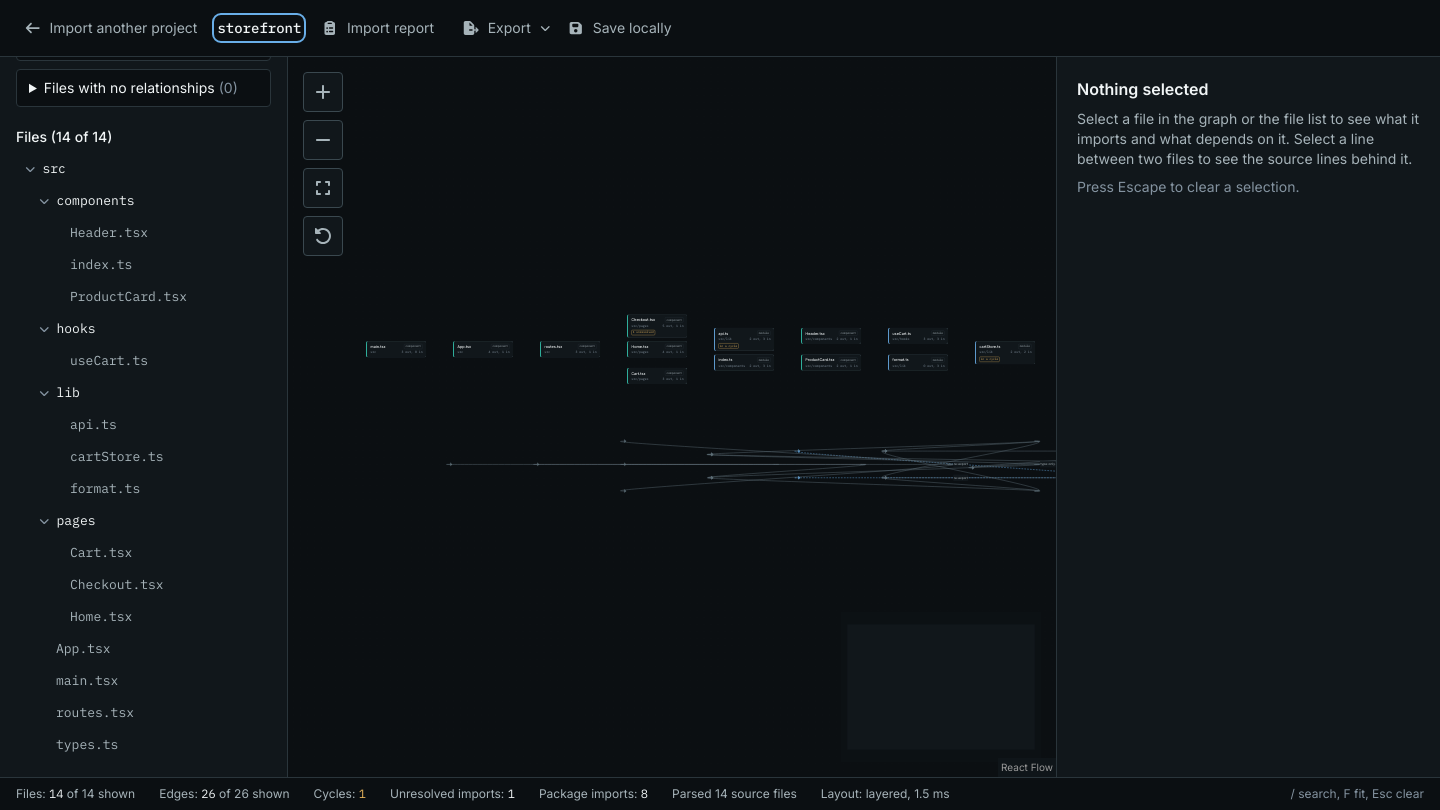
it: Workspace with a multi-file project › traces the shortest import path between two files
The image size is (1440, 810).
(page scrolled)
Click the button "main.tsx".
click(144, 681)  # box [16,665,271,697]
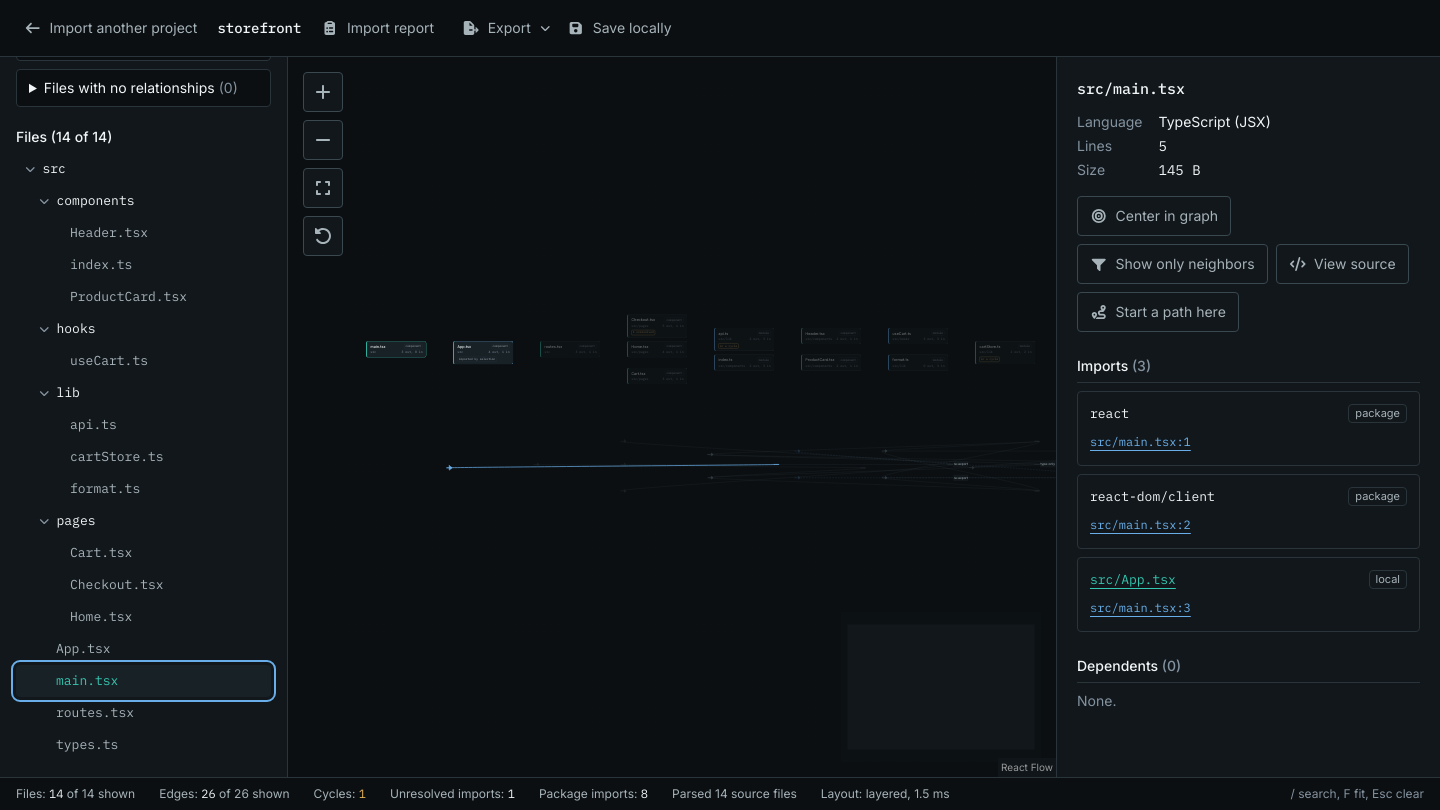
Click the button "Start a path here".
click(1158, 312)  # box [1077,292,1239,332]
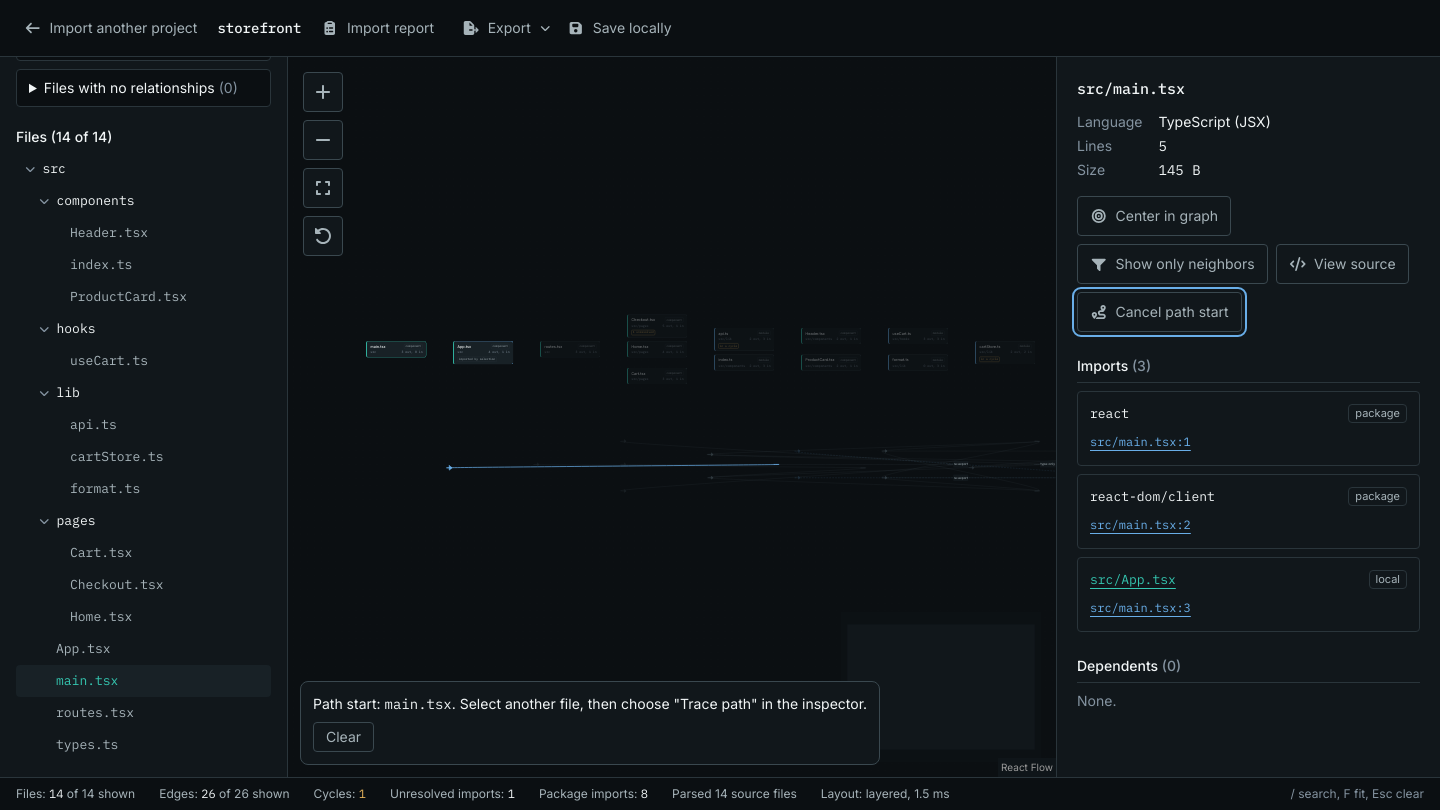
Click the button "types.ts".
click(144, 745)  # box [16,729,271,761]
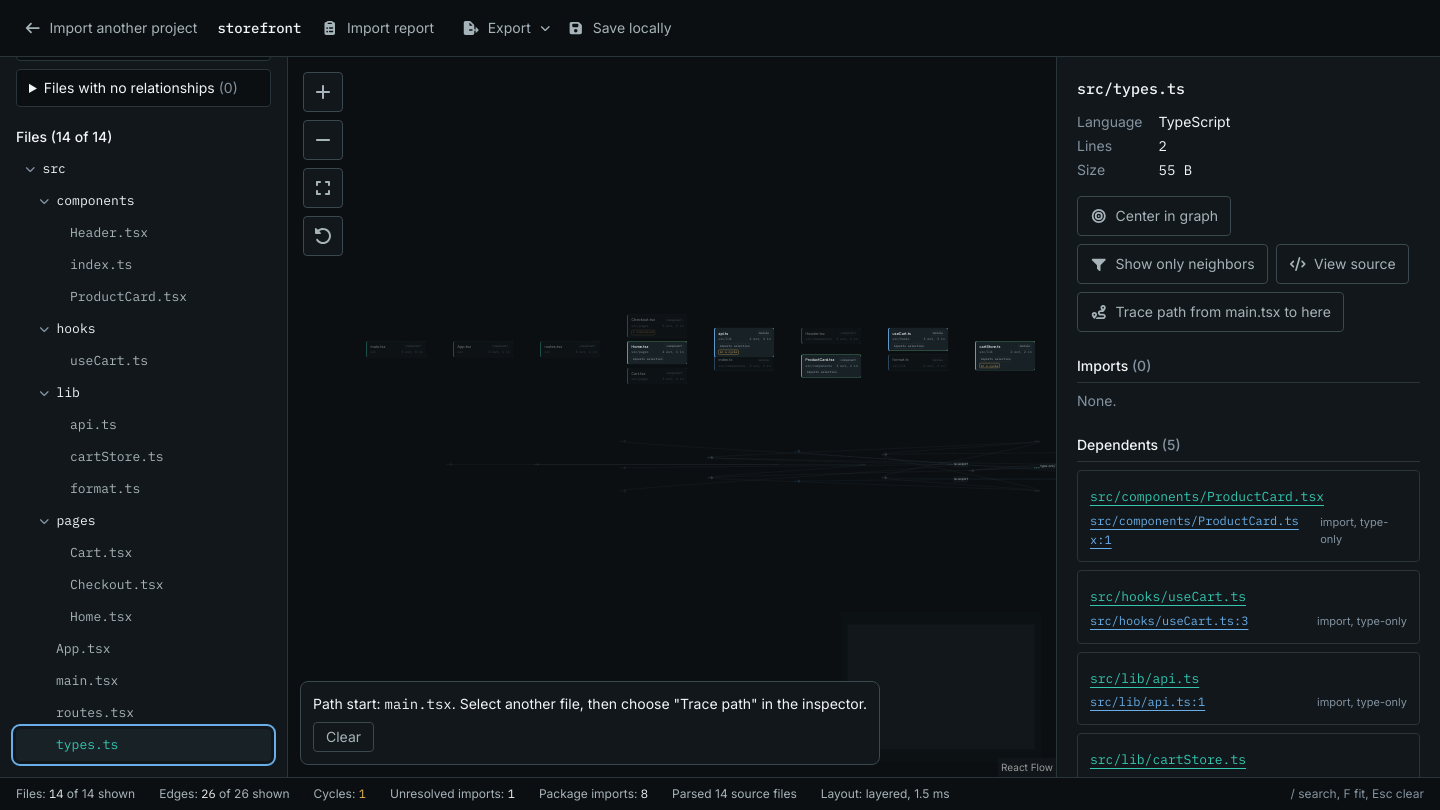
Click the button "Trace path from main.tsx to here".
click(1210, 312)  # box [1077,292,1344,332]
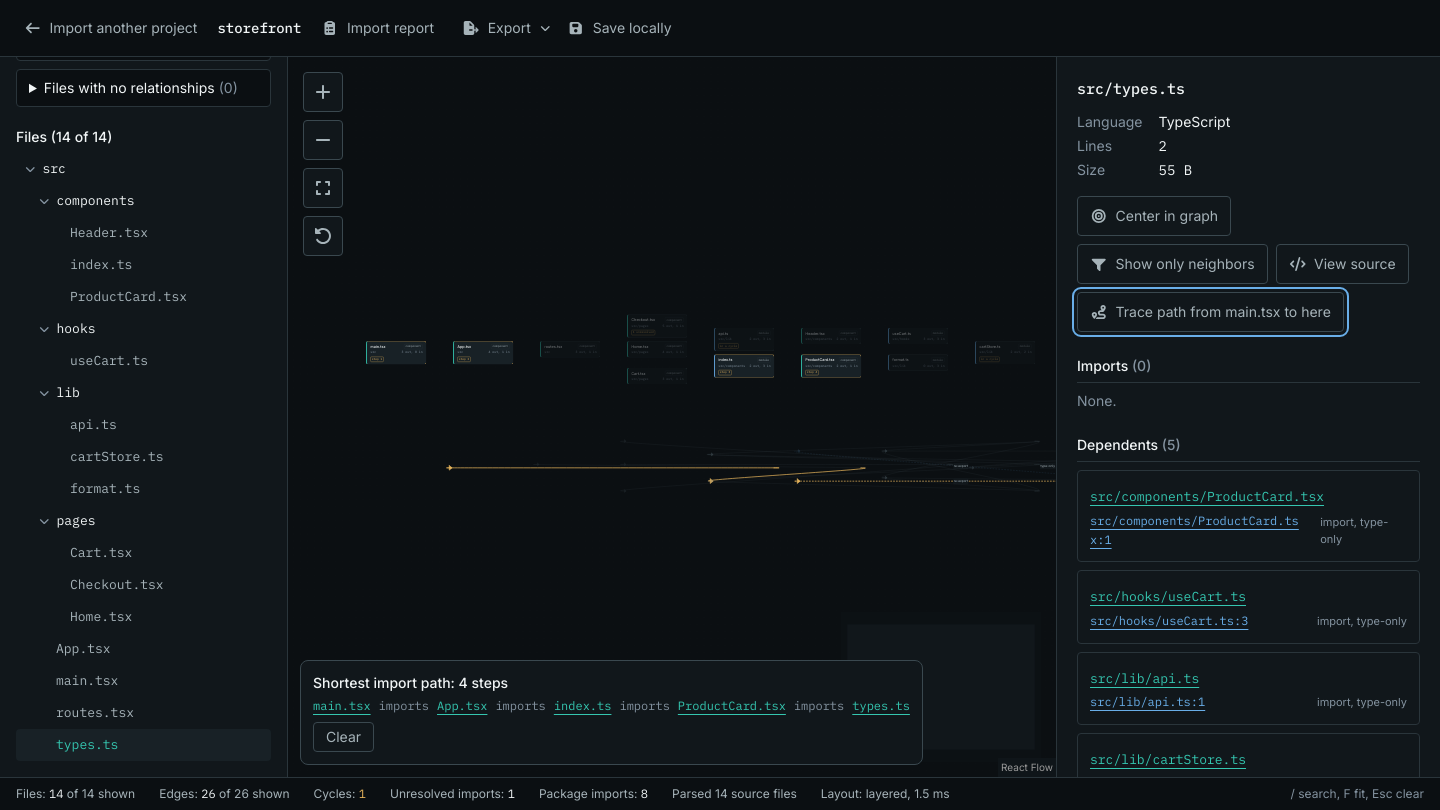
Result: the element named "path or cycle details" shows "Shortest import path: 4 steps" at [300,660,923,765]
